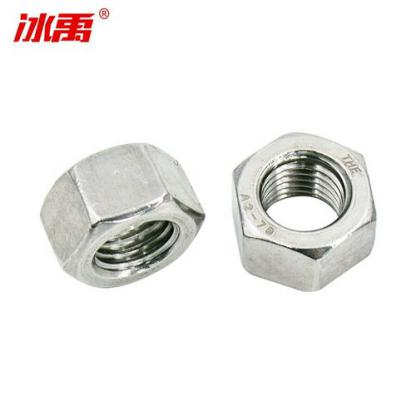FOD: (32, 139, 208, 293), (228, 126, 379, 294)
